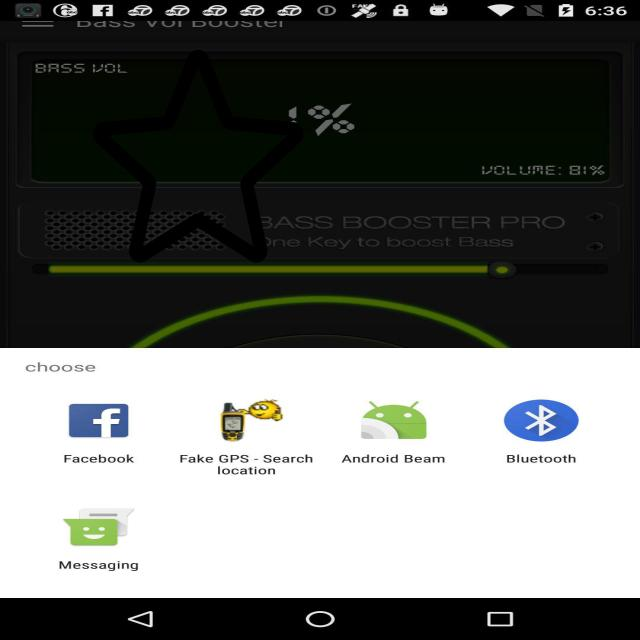forced continuity: (93, 45, 303, 267)
